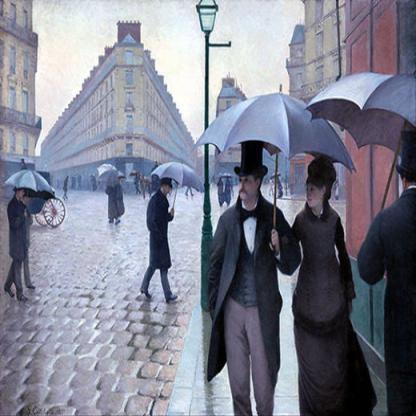Umbrella: (304, 61, 416, 224), (205, 72, 338, 188), (146, 152, 217, 210), (5, 165, 64, 229), (86, 154, 132, 188)
